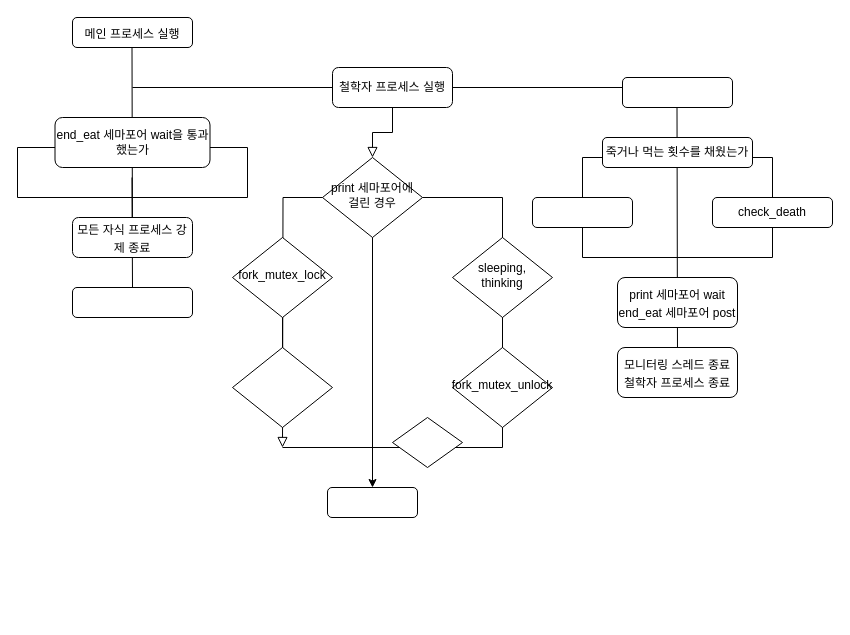
The diagram is 850 pixels wide and 635 high, and some of its shapes have lost their labels. The centre of each missing label's shape, as x and y in pixels:
"eating" belongs at (x=282, y=387).
"end_philo" belongs at (x=582, y=212).
"대기" belongs at (x=372, y=502).
"먹는 횟수를 채운 경우" belongs at (x=427, y=442).
"메인 프로세스 종료" belongs at (x=132, y=302).
"모니터링 스레드 실행" belongs at (x=677, y=92).
